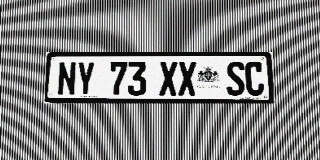3: (128, 61, 146, 96)
7: (109, 61, 127, 96)
C: (245, 61, 264, 96)
N: (57, 61, 76, 96)
S: (226, 61, 245, 96)
X: (159, 61, 177, 96), (178, 61, 196, 96)
Y: (76, 61, 95, 96)
